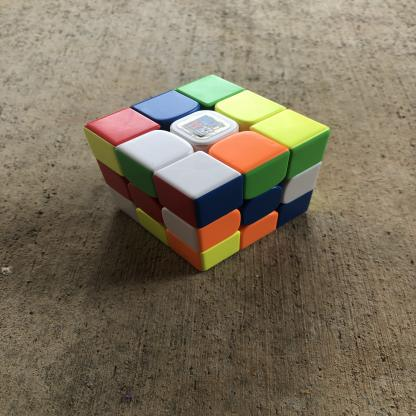UnsolvedCube: (70, 63, 340, 276)
